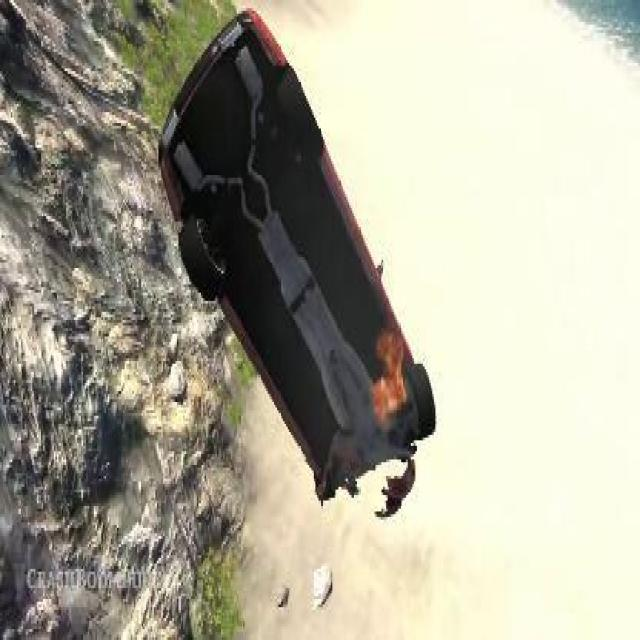accident: (148, 0, 448, 498)
